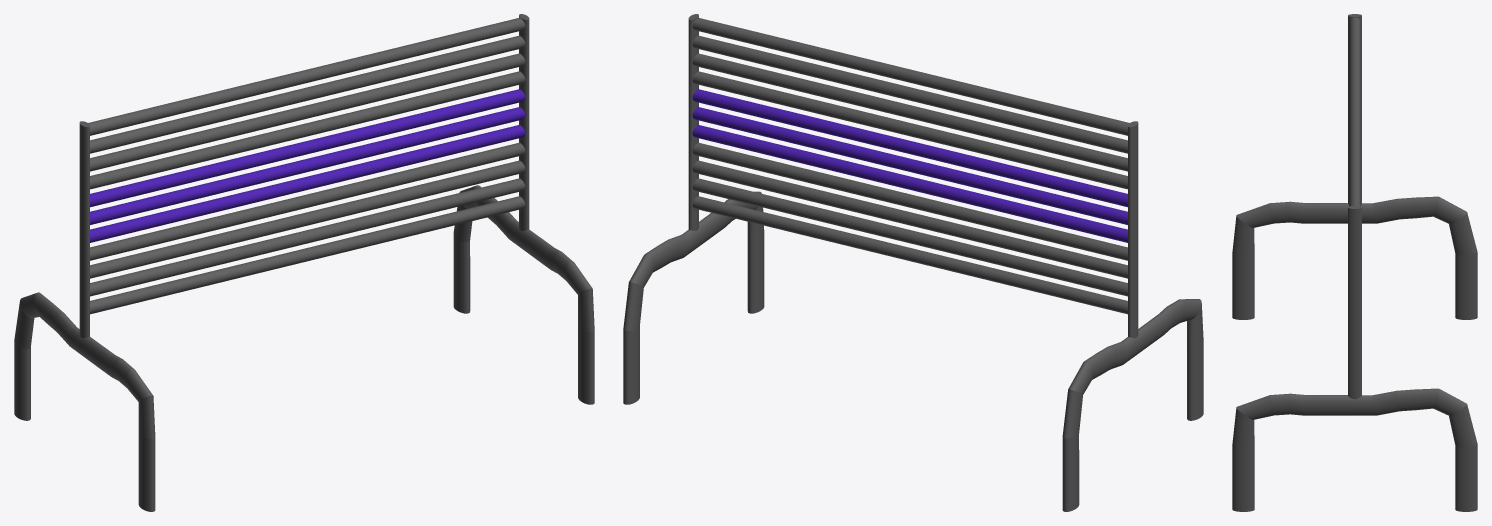
Rendered from Barracade Metal3.fbx.
3 views of the same model, side by side, from view 1: azimuth 30°, elevation 25°; view 2: azimuth 150°, elevation 25°; view 3: azimuth 270°, elevation 25° (orthographic). The views are drawn at different scales.
Visible parts, largest first — view 1: Barracade Metal3; view 2: Barracade Metal3; view 3: Barracade Metal3.
Part boxes in pixels (box(x1,y1,x2,y2)): Barracade Metal3: box(14, 14, 594, 511); Barracade Metal3: box(623, 14, 1203, 511); Barracade Metal3: box(1232, 14, 1477, 511).
Size of the model in its own units: 418 by 299 by 220.
